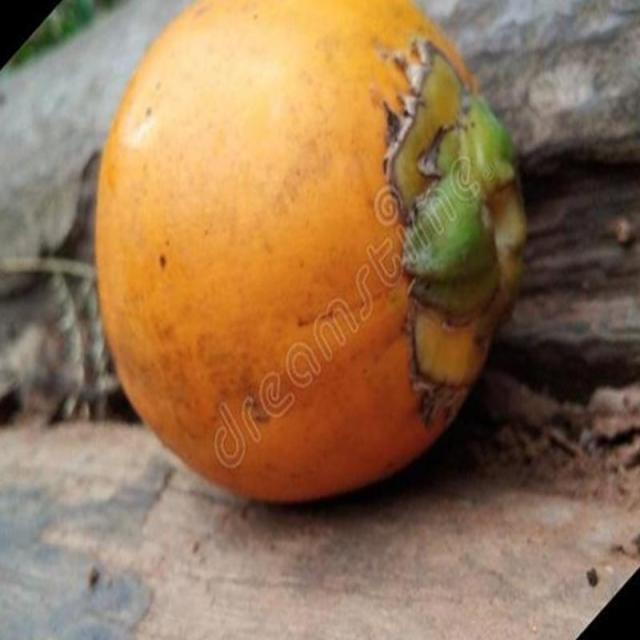good: (93, 0, 527, 507)
